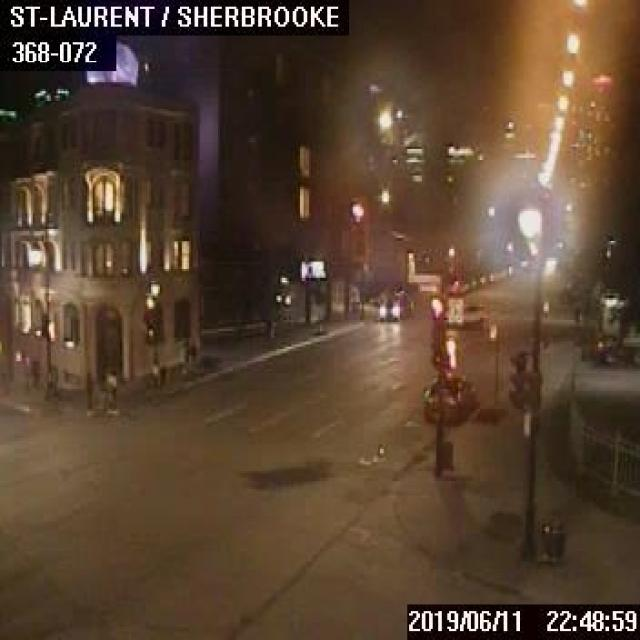pedestrian: (105, 366, 116, 404)
vehicle: (419, 376, 476, 420), (374, 285, 412, 320), (446, 303, 486, 326)
